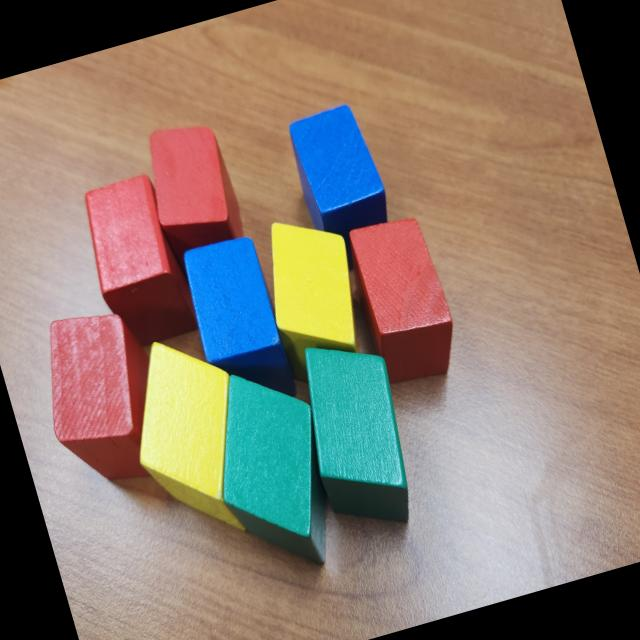blue: (175, 231, 300, 419), (280, 100, 398, 256)
green: (188, 355, 354, 587), (284, 326, 431, 542)
red: (26, 298, 182, 499), (333, 209, 468, 395), (74, 170, 202, 352), (134, 113, 252, 273)
yellow: (108, 323, 272, 554), (250, 205, 375, 371)
